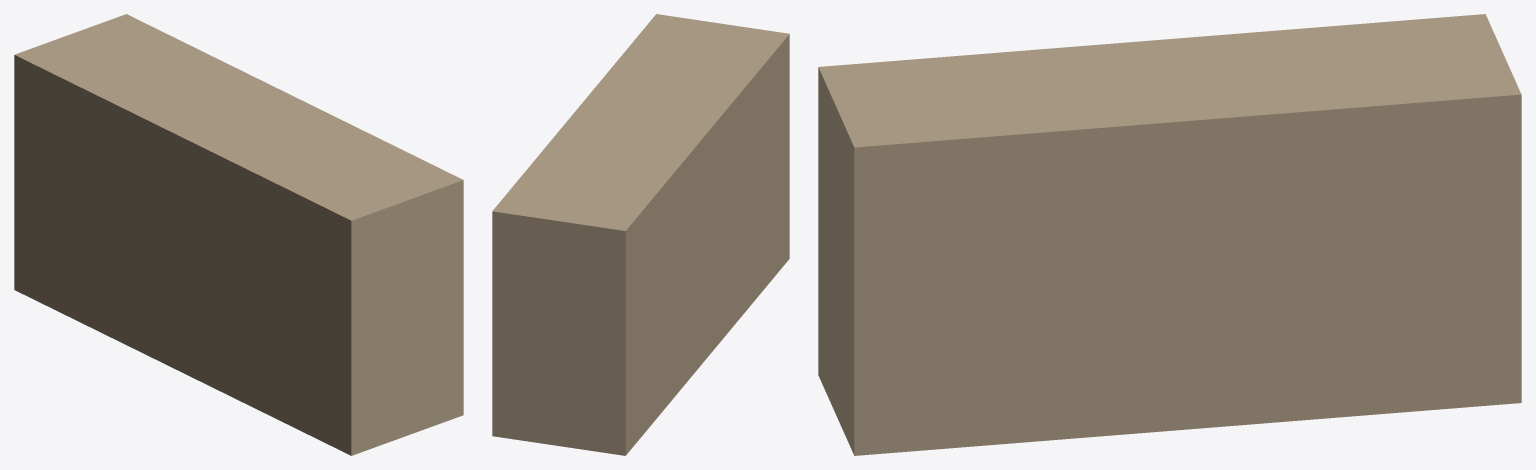
Rendered from bld_104408986.dae.
The picture shows the model from 3 angles, left to right: view 1: azimuth 30°, elevation 25°; view 2: azimuth 150°, elevation 25°; view 3: azimuth 270°, elevation 25°; orthographic projection. The views are drawn at different scales.
Visible parts, largest first — view 1: bld_104408986; view 2: bld_104408986; view 3: bld_104408986.
Boxes of the visible parts, x1=… form: bld_104408986: x1=14, y1=14, x2=463, y2=455; bld_104408986: x1=492, y1=14, x2=789, y2=455; bld_104408986: x1=818, y1=14, x2=1521, y2=455.
Size of the model in its own units: 7.43 by 16.53 by 8.
